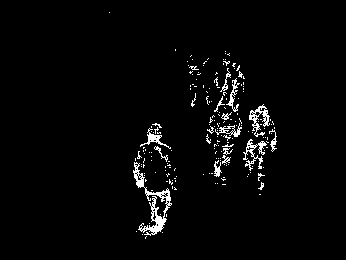person: (131, 123, 179, 238), (205, 93, 243, 185), (244, 105, 278, 196)
